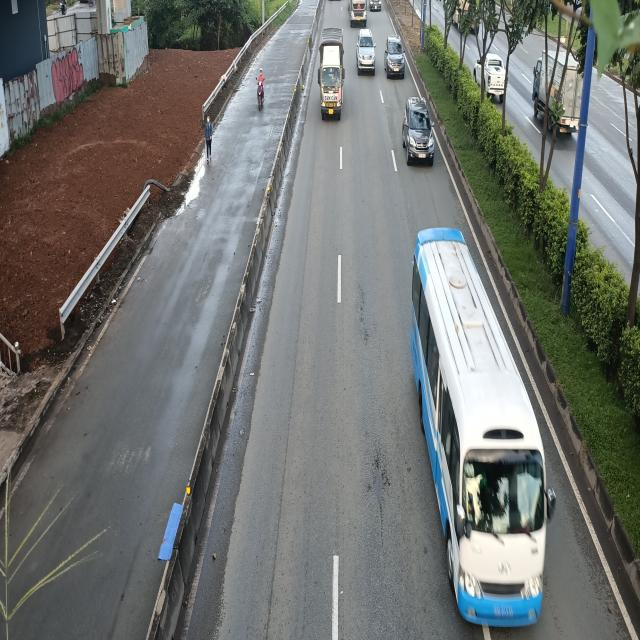car: (403, 97, 435, 166), (384, 34, 406, 78), (355, 29, 376, 75)
coach: (408, 225, 552, 630)
truck: (319, 26, 348, 120)
